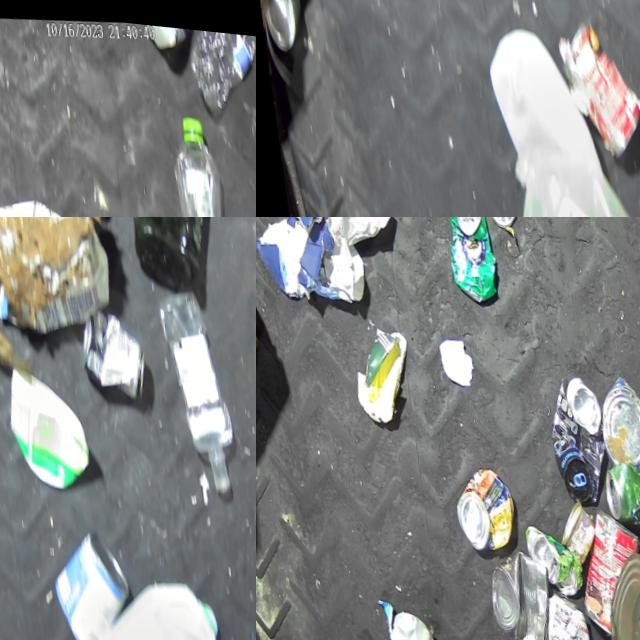can: (550, 7, 640, 157), (72, 557, 228, 640), (38, 514, 134, 640), (565, 496, 640, 632), (539, 364, 609, 498), (74, 297, 149, 399), (478, 539, 553, 640), (446, 458, 514, 550), (517, 514, 578, 592), (439, 217, 497, 299), (593, 540, 640, 640), (591, 363, 640, 458), (524, 582, 589, 640), (594, 447, 640, 521), (550, 491, 593, 559), (256, 0, 303, 53), (379, 607, 431, 640)
milk_jug: (477, 15, 596, 171), (499, 133, 640, 217)
plastic_bottle: (162, 101, 232, 217), (183, 20, 256, 113)
